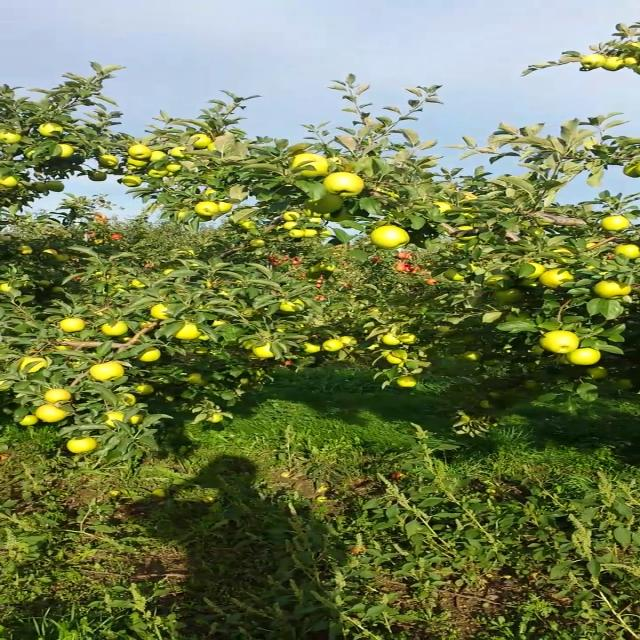apple: (292, 154, 331, 178), (324, 172, 362, 196), (370, 225, 407, 249), (540, 331, 578, 354), (540, 269, 578, 289), (594, 280, 631, 300), (307, 195, 341, 213), (90, 362, 122, 380), (566, 347, 598, 365), (36, 405, 66, 423), (67, 438, 96, 454), (486, 275, 515, 291), (171, 324, 201, 339), (495, 287, 522, 303), (19, 357, 45, 373), (44, 390, 73, 404), (277, 298, 304, 312), (193, 202, 220, 216), (602, 217, 629, 231), (100, 321, 126, 335), (129, 144, 151, 160), (455, 225, 477, 241), (60, 319, 84, 333), (615, 244, 638, 258), (151, 304, 171, 320), (0, 129, 21, 144), (190, 134, 212, 148), (582, 55, 604, 69), (252, 343, 273, 357), (38, 123, 62, 135), (444, 270, 466, 282), (105, 412, 123, 426), (138, 348, 159, 360), (589, 367, 607, 381), (528, 263, 546, 277), (604, 58, 622, 72), (115, 394, 134, 406), (148, 166, 167, 178), (433, 202, 452, 214), (98, 155, 115, 168), (301, 207, 323, 217), (166, 160, 182, 173), (324, 339, 341, 351), (460, 191, 480, 201), (302, 342, 320, 353), (382, 335, 401, 345), (57, 145, 72, 157), (187, 375, 205, 385), (282, 211, 300, 221), (400, 334, 418, 344), (149, 151, 167, 161), (0, 176, 17, 186), (399, 376, 416, 386), (45, 183, 63, 192), (121, 177, 139, 186), (558, 355, 574, 365), (19, 416, 36, 425), (462, 352, 481, 360), (437, 326, 456, 334), (138, 385, 153, 395), (87, 173, 105, 181), (130, 157, 148, 165), (172, 147, 186, 157), (228, 217, 242, 227), (532, 345, 546, 355), (551, 249, 574, 255), (340, 336, 356, 344), (524, 280, 540, 288), (388, 355, 402, 364), (624, 58, 636, 68), (33, 184, 47, 192), (131, 280, 145, 288), (242, 341, 258, 348), (129, 164, 143, 172), (284, 220, 298, 228), (290, 229, 304, 237), (323, 212, 337, 220), (140, 320, 151, 330), (218, 202, 230, 211), (204, 188, 217, 196), (240, 223, 257, 229), (26, 149, 36, 159), (132, 415, 142, 425), (212, 414, 222, 424), (305, 228, 315, 238), (319, 228, 329, 238), (252, 240, 265, 247), (213, 320, 227, 326), (308, 217, 322, 223), (160, 269, 174, 275), (19, 246, 29, 254), (178, 211, 188, 219), (52, 346, 70, 350), (207, 144, 216, 152), (586, 242, 598, 248), (44, 250, 55, 256), (58, 255, 68, 261), (198, 335, 208, 341), (1, 285, 10, 291)
